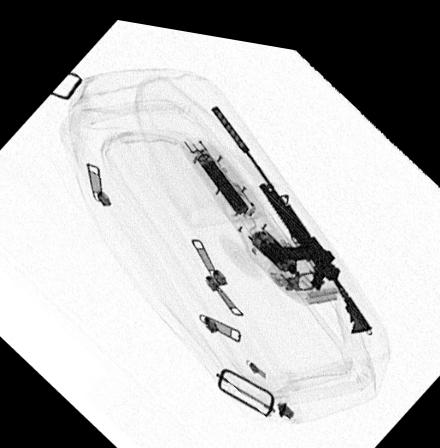Gun: (207, 97, 373, 319)
